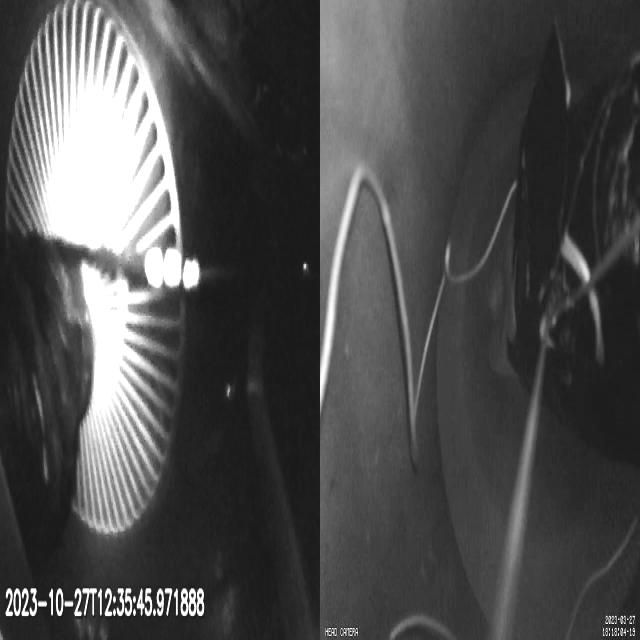white-dots: (143, 246, 200, 291)
